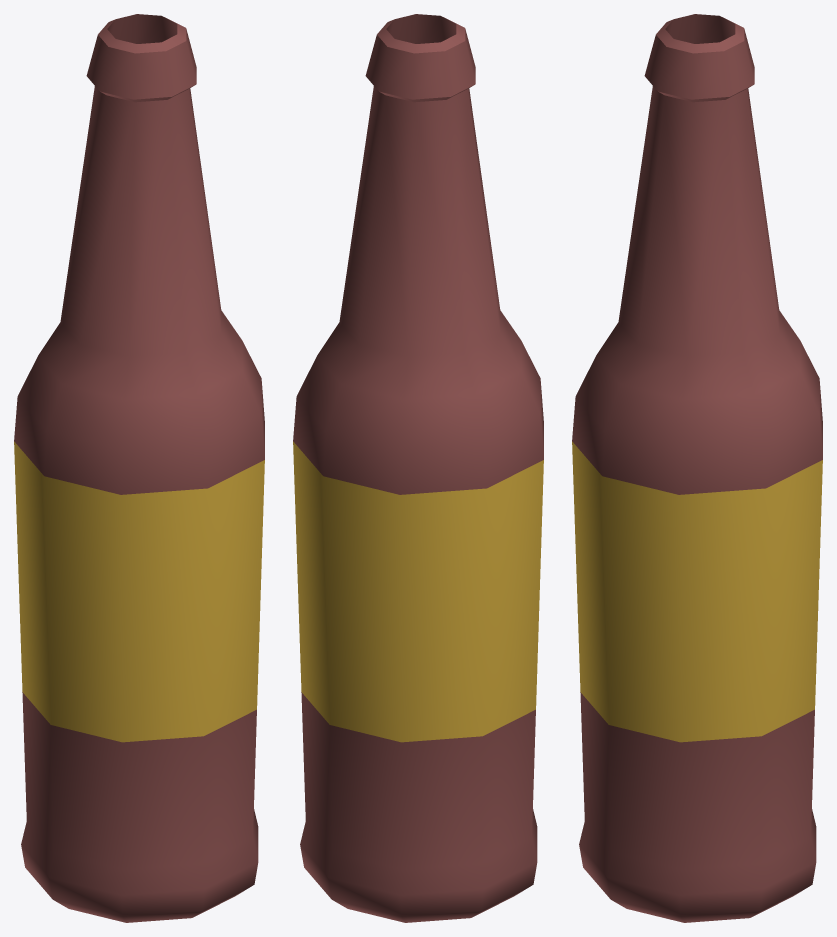
File: BeerBottle_02.fbx
3 views of the same model, side by side, from view 1: azimuth 30°, elevation 25°; view 2: azimuth 150°, elevation 25°; view 3: azimuth 270°, elevation 25° (orthographic).
Visible parts, largest first — view 1: BeerBottle_02; view 2: BeerBottle_02; view 3: BeerBottle_02.
Part boxes in pixels (bbox=[...]): BeerBottle_02: bbox=[14, 14, 264, 922]; BeerBottle_02: bbox=[293, 14, 543, 922]; BeerBottle_02: bbox=[572, 14, 822, 922].
Size of the model in its own units: 9.56 by 35.54 by 9.42.
